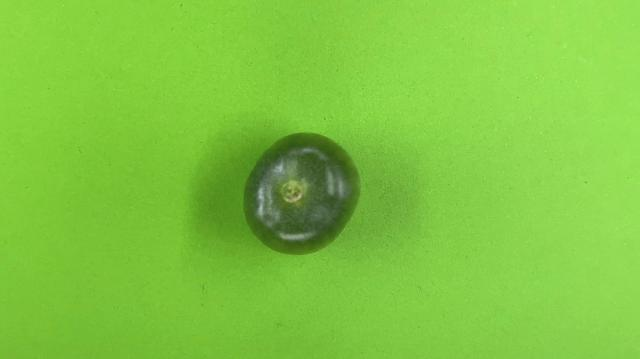Fruit Maturation: (241, 132, 361, 256)
